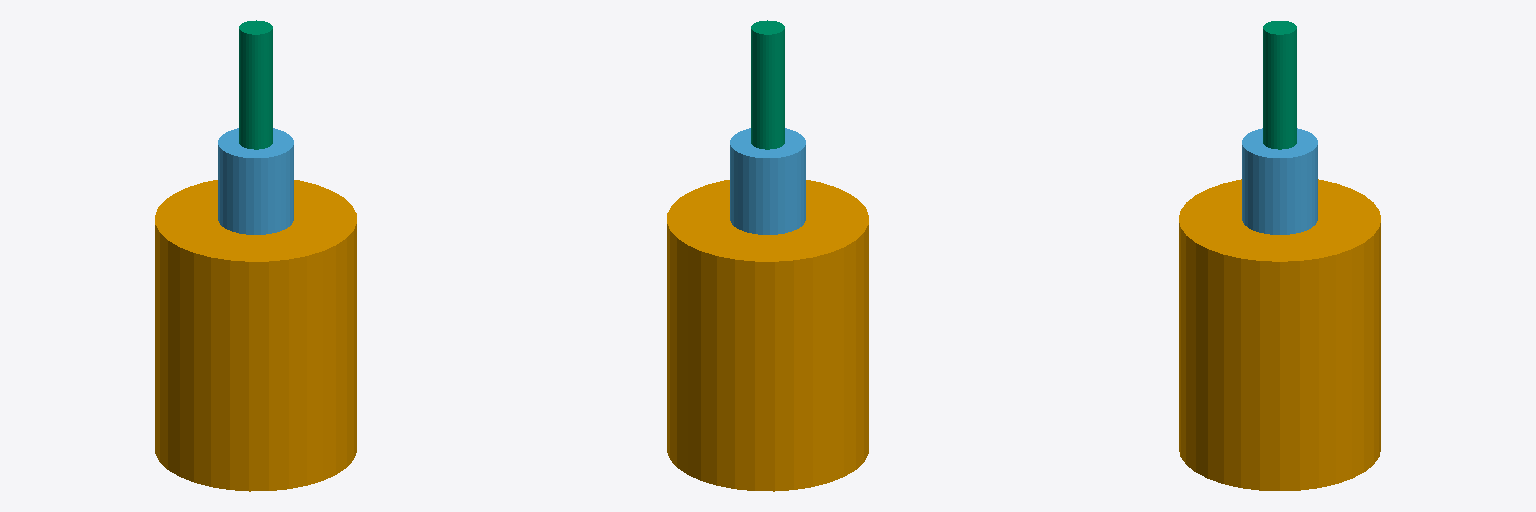
URDF robot description (spindle):
<?xml version="1.0"?>
<!-- A hand-authored router spindle for the machining demo: motor body,
     collet, and an 8 mm end mill extending out of the flange (+Z of the
     mount, as tools do). The `tip` link is the TCP; its frame is flipped
     a half-turn about X so its +Z runs from the cutter tip back toward
     the tool body — the axis convention `PathTarget.tool_axis` and the
     5-DOF axis-aligned IK expect. Collision is authored as primitives;
     in C0 the stock is display-only (a cutter is supposed to touch it),
     fixtures and clamps stay live. -->
<robot name="spindle">
  <link name="spindle_mount">
    <visual>
      <origin xyz="0 0 0.03"/>
      <geometry><cylinder radius="0.024" length="0.06"/></geometry>
    </visual>
    <collision>
      <origin xyz="0 0 0.03"/>
      <geometry><cylinder radius="0.024" length="0.06"/></geometry>
    </collision>
  </link>
  <link name="collet">
    <visual>
      <origin xyz="0 0 0.01"/>
      <geometry><cylinder radius="0.009" length="0.02"/></geometry>
    </visual>
    <collision>
      <origin xyz="0 0 0.01"/>
      <geometry><cylinder radius="0.009" length="0.02"/></geometry>
    </collision>
  </link>
  <link name="cutter">
    <visual>
      <origin xyz="0 0 0.015"/>
      <geometry><cylinder radius="0.004" length="0.03"/></geometry>
    </visual>
    <collision>
      <origin xyz="0 0 0.015"/>
      <geometry><cylinder radius="0.004" length="0.03"/></geometry>
    </collision>
  </link>
  <link name="tip"/>
  <joint name="mount_to_collet" type="fixed">
    <parent link="spindle_mount"/><child link="collet"/>
    <origin xyz="0 0 0.06"/>
  </joint>
  <joint name="collet_to_cutter" type="fixed">
    <parent link="collet"/><child link="cutter"/>
    <origin xyz="0 0 0.02"/>
  </joint>
  <joint name="cutter_to_tip" type="fixed">
    <parent link="cutter"/><child link="tip"/>
    <origin xyz="0 0 0.03" rpy="3.14159265358979 0 0"/>
  </joint>
</robot>

--- Render facts (derived) ---
3 views of the same robot in one strip: view 1: azimuth 30°, elevation 25°; view 2: azimuth 150°, elevation 25°; view 3: azimuth 270°, elevation 25° (orthographic).
Robot: spindle — 4 links, 3 joints (3 fixed); root link spindle_mount; default pose: all joints at 0.
Links seen in each view (by area): view 1: spindle_mount, collet, cutter; view 2: spindle_mount, collet, cutter; view 3: spindle_mount, collet, cutter.
Link boxes in pixels (<box>): spindle_mount: <box>155,180,356,491</box>; collet: <box>218,128,293,234</box>; cutter: <box>239,20,272,149</box>; spindle_mount: <box>667,180,868,491</box>; collet: <box>730,128,805,234</box>; cutter: <box>751,20,784,149</box>; spindle_mount: <box>1179,179,1380,490</box>; collet: <box>1242,128,1317,234</box>; cutter: <box>1263,21,1296,149</box>.
Size in the robot's own frame: 0.048 by 0.048 by 0.11 metres.
Geometry: primitives only (box / cylinder / sphere), no mesh files.
